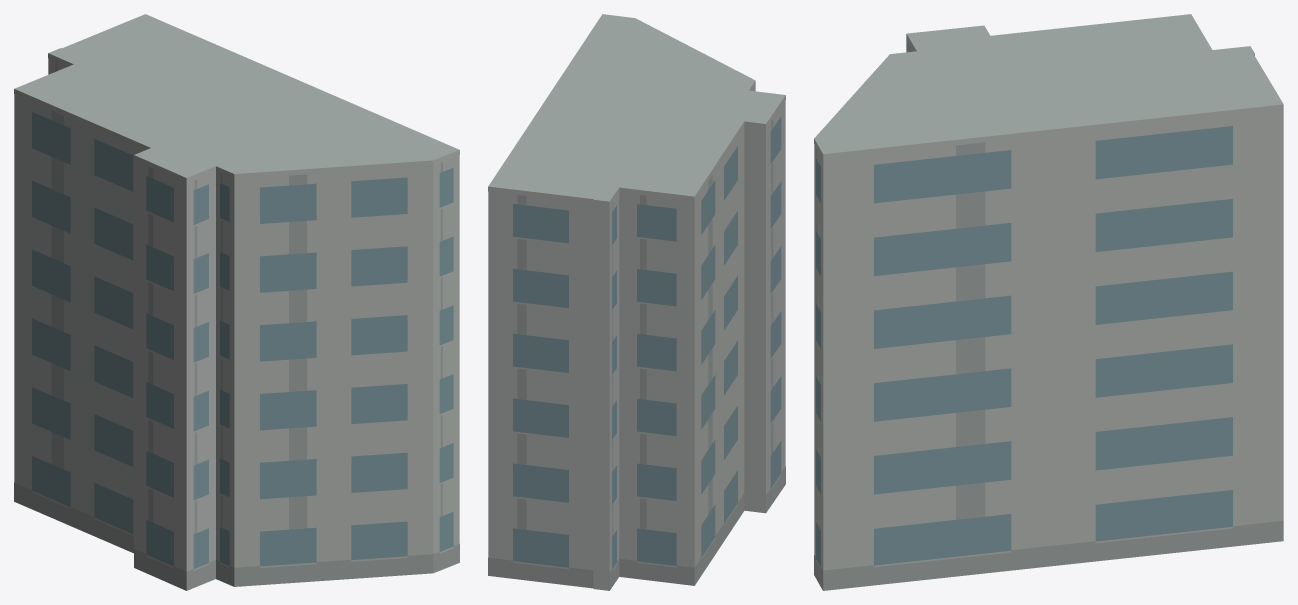
The model's file is survey-upis-32825057.glb.
3 views of the same model, side by side, from view 1: azimuth 30°, elevation 25°; view 2: azimuth 150°, elevation 25°; view 3: azimuth 270°, elevation 25° (orthographic). The views are drawn at different scales.
Parts seen in each view (by area): view 1: survey-upis-32825057.tmp; view 2: survey-upis-32825057.tmp; view 3: survey-upis-32825057.tmp.
Boxes of the visible parts, box(x1,y1,x2,y2) form: survey-upis-32825057.tmp: box(14, 14, 459, 590); survey-upis-32825057.tmp: box(488, 14, 785, 590); survey-upis-32825057.tmp: box(814, 14, 1283, 590).
Size of the model in its own units: 13.09 by 19 by 18.53.
